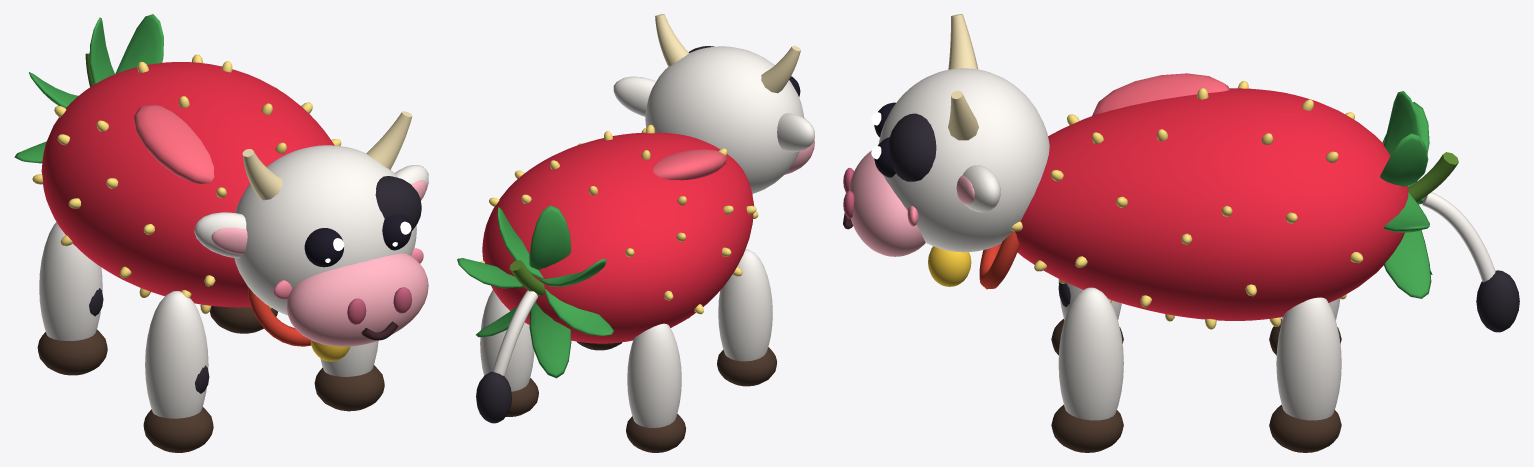
File: pilot_ku_jordbaer.glb
3 renders of one model, left to right at view 1: azimuth 30°, elevation 25°; view 2: azimuth 150°, elevation 25°; view 3: azimuth 270°, elevation 25°, orthographic. The views are drawn at different scales.
Parts seen in each view (by area): view 1: kropp, hode, bein_vf, bein_vb, bein_hf, bein_hb; view 2: kropp, hode, bein_vb, bein_vf, bein_hb, hale; view 3: kropp, hode, bein_hf, bein_hb, hale, bein_vf.
Part boxes in pixels (left/top/right/bottom): kropp: left=14, top=14, right=341, bottom=313; hode: left=194, top=111, right=428, bottom=361; bein_vf: left=143, top=291, right=213, bottom=452; bein_vb: left=37, top=222, right=107, bottom=375; bein_hf: left=314, top=340, right=384, bottom=411; bein_hb: left=209, top=306, right=277, bottom=333; kropp: left=457, top=124, right=758, bottom=378; hode: left=613, top=14, right=814, bottom=205; bein_vb: left=626, top=323, right=686, bottom=452; bein_vf: left=717, top=249, right=776, bottom=386; bein_hb: left=480, top=290, right=538, bottom=416; hale: left=476, top=290, right=537, bottom=423; kropp: left=1010, top=73, right=1458, bottom=329; hode: left=843, top=14, right=1049, bottom=289; bein_hf: left=1051, top=287, right=1123, bottom=452; bein_hb: left=1269, top=297, right=1341, bottom=452; hale: left=1422, top=192, right=1519, bottom=332; bein_vf: left=1051, top=279, right=1123, bottom=355.
Size of the model in its own units: 0.8476 by 1.07 by 1.86.
